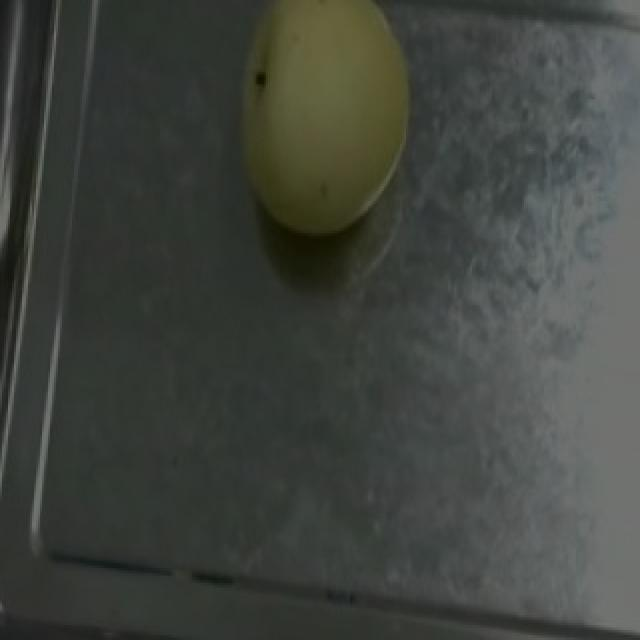Fruit: (216, 2, 432, 250)
